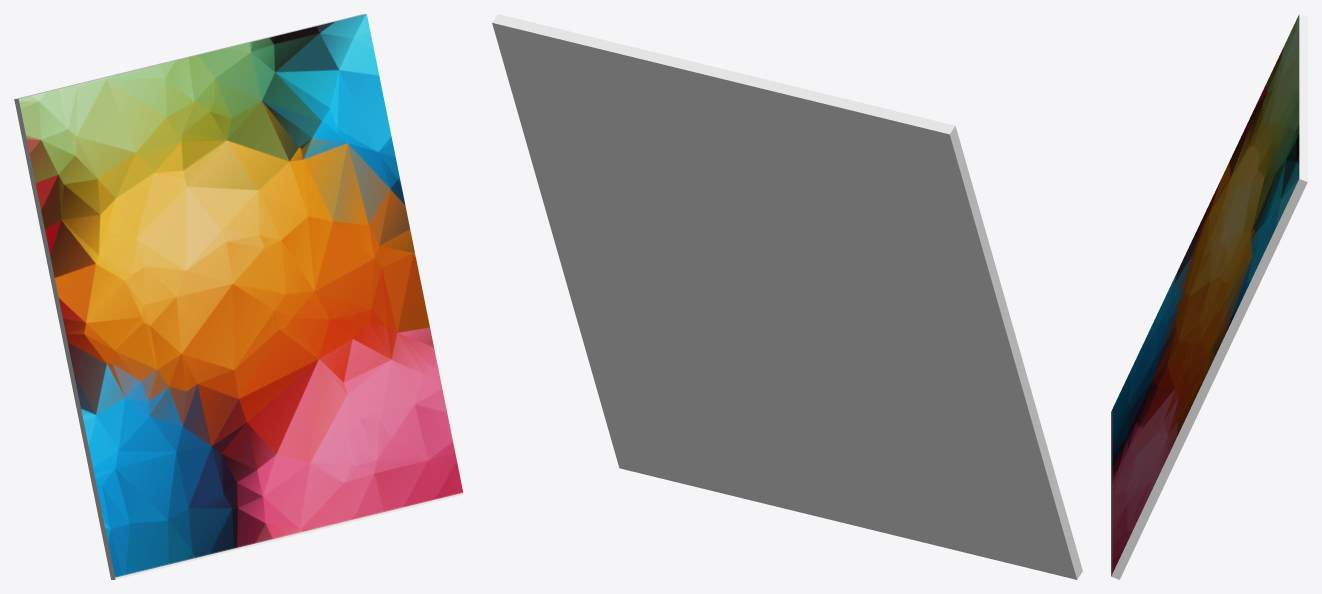
Rendered from carton.fbx.
3 views of the same model, side by side, from view 1: azimuth 30°, elevation 25°; view 2: azimuth 150°, elevation 25°; view 3: azimuth 270°, elevation 25° (orthographic). The views are drawn at different scales.
Visible parts, largest first — view 1: mesh; view 2: mesh; view 3: mesh.
Part boxes in pixels (left/top/right/bottom): mesh: left=14, top=14, right=463, bottom=579; mesh: left=492, top=14, right=1082, bottom=579; mesh: left=1111, top=14, right=1307, bottom=579.
Bounding box in the file's own units: 72.91 × 82.7 × 36.75.
1 material, 1 textured.
